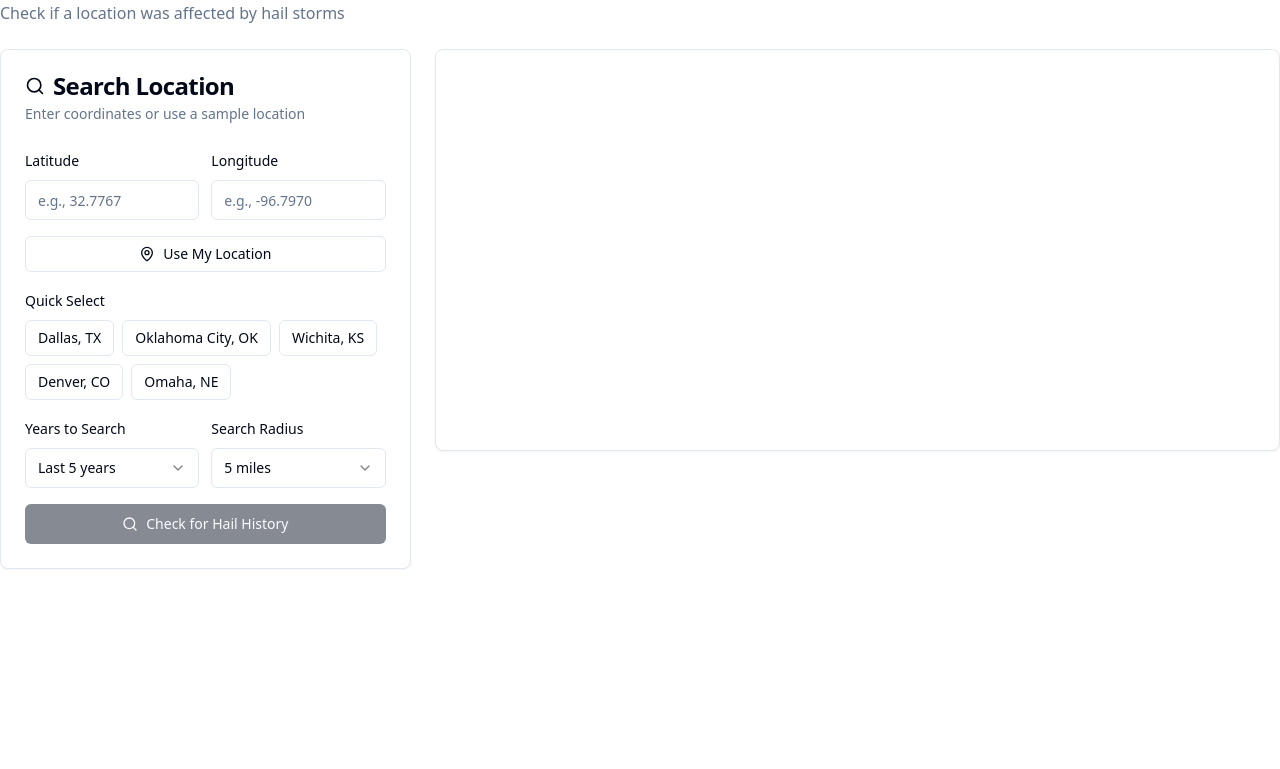
Test case: HailLookupPage › PDF Report › shows Download PDF button after search
Type "32.7767" into the field with placeholder "e.g., 32.7767". click: [112, 200]
box: [25, 180, 199, 220]
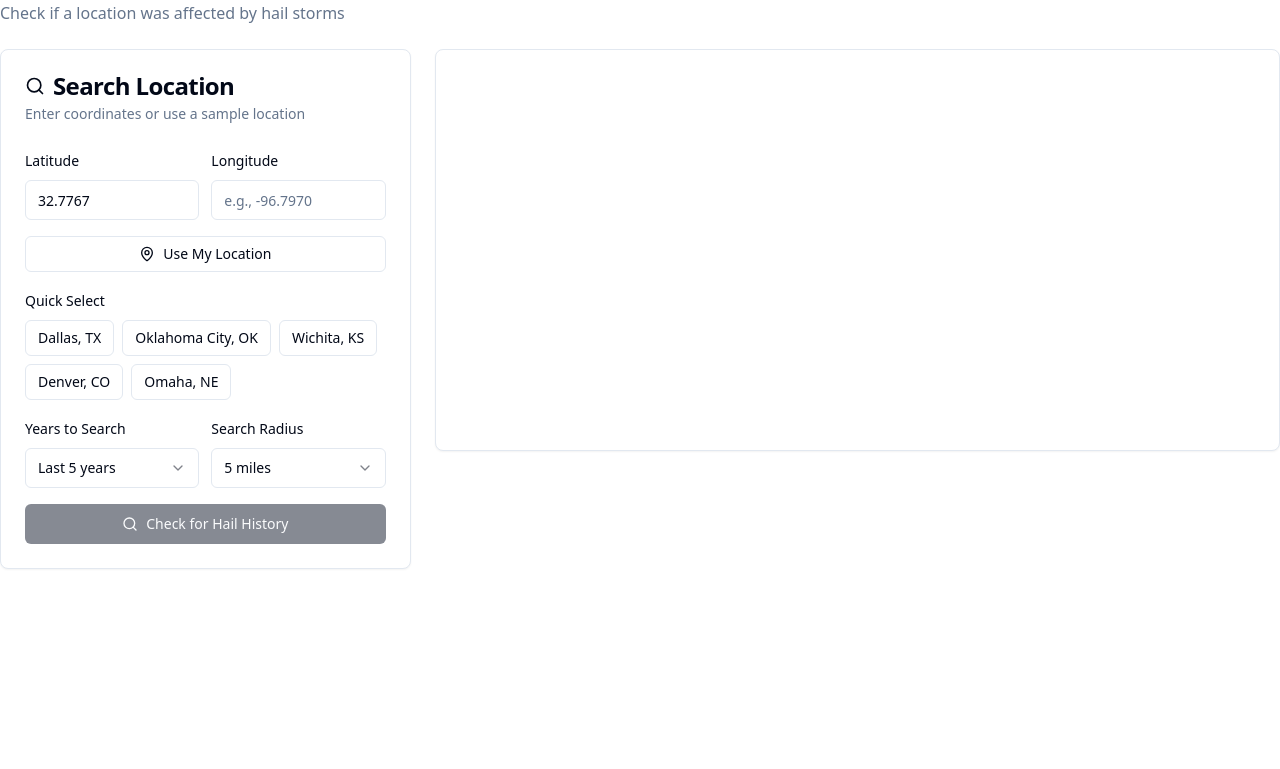
Type "-96.7970" into the field with placeholder "e.g., -96.7970". click: [298, 200]
box: [211, 180, 386, 220]
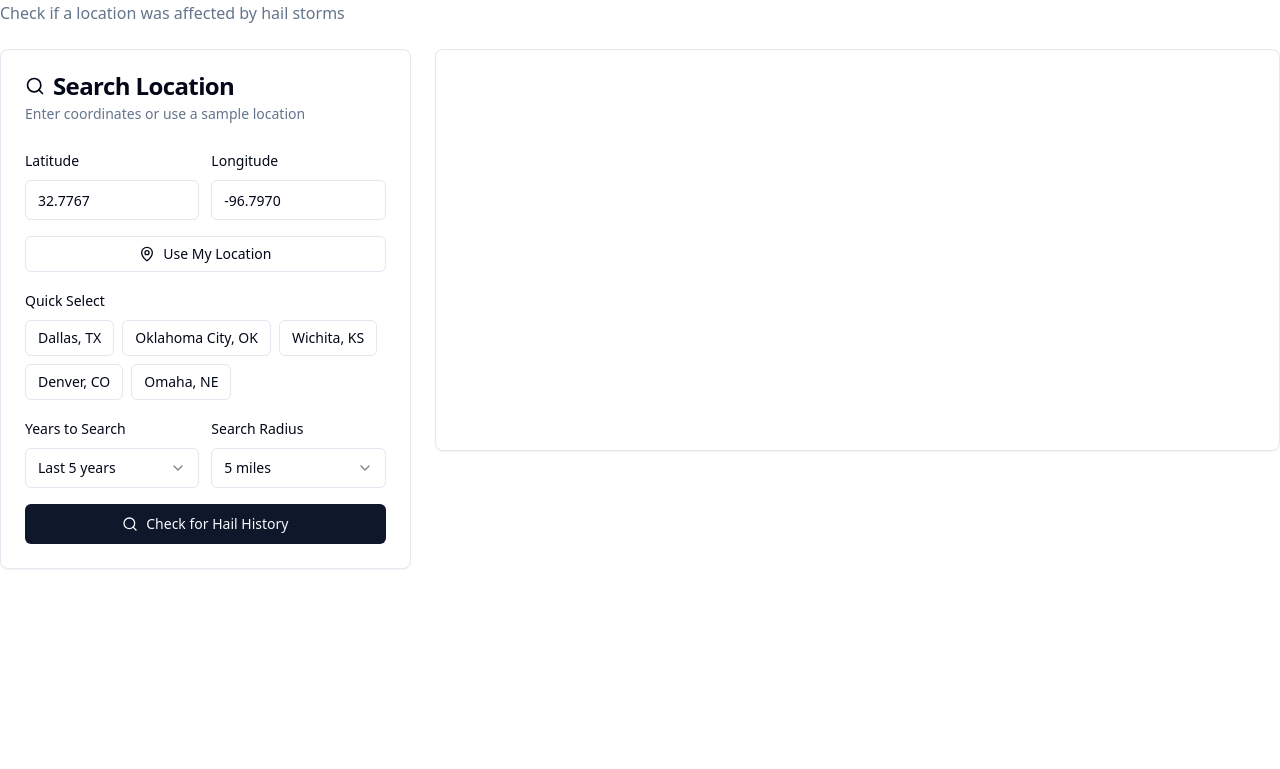
Click the button "Check for Hail History". click: [205, 524]
box: [25, 504, 386, 544]
(page scrolled)
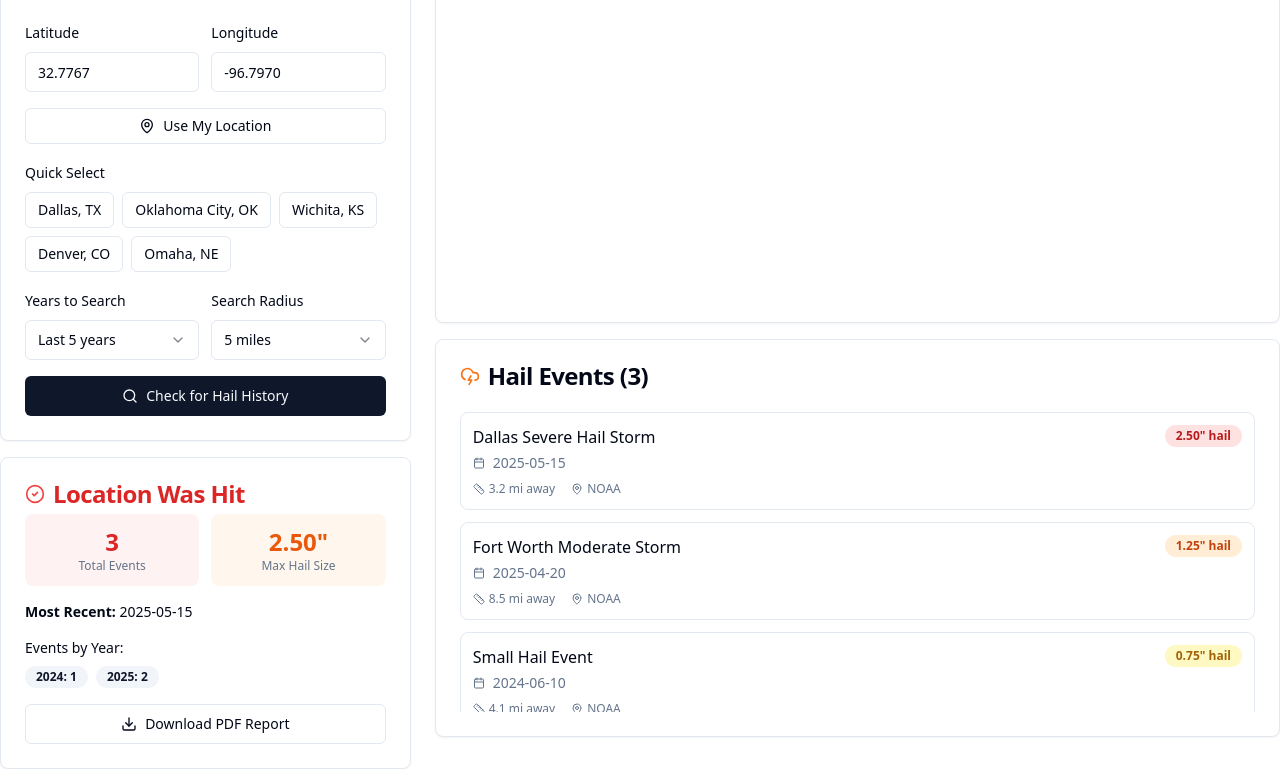
Check: the button "Download PDF Report" is shown, box [25, 704, 386, 744]
